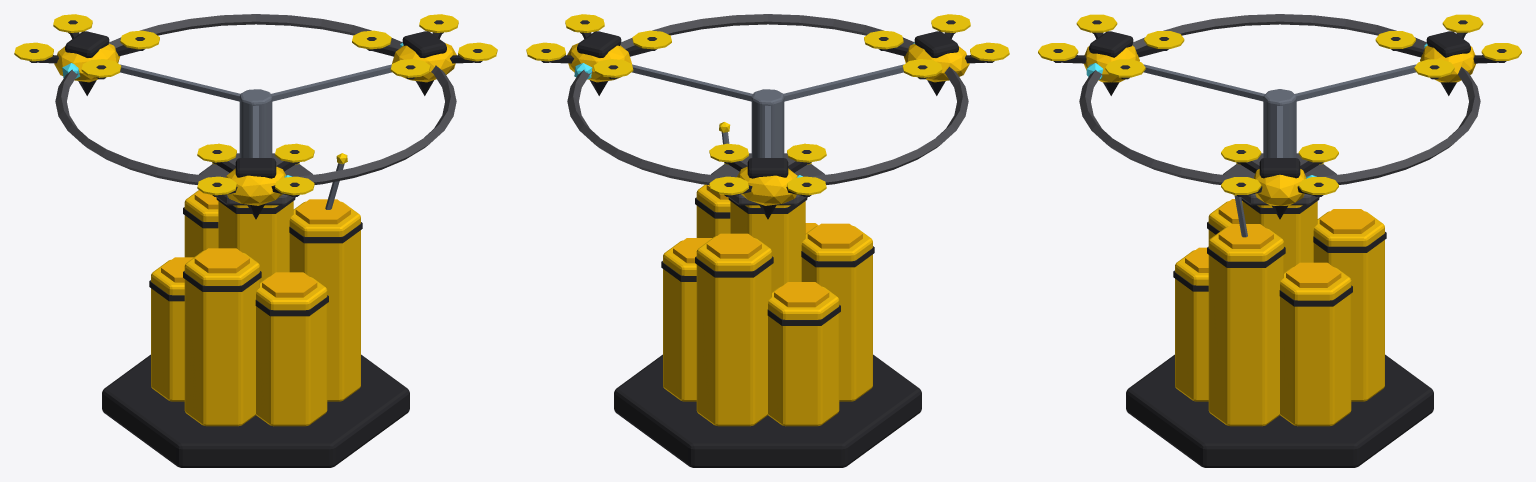
File: torreta_colmena.glb
3 renders of one model, left to right at view 1: azimuth 30°, elevation 25°; view 2: azimuth 150°, elevation 25°; view 3: azimuth 270°, elevation 25°, orthographic.
Parts seen in each view (by area): view 1: Base, Pivot; view 2: Base, Pivot; view 3: Base, Pivot.
Boxes of the visible parts, x1,y1,x2,y2 form: Base: (102,153,409,467); Pivot: (14,14,497,219); Base: (614,122,921,467); Pivot: (526,14,1009,219); Base: (1126,153,1433,467); Pivot: (1038,14,1521,219).
Size of the model in its own units: 4.24 by 3.43 by 4.53.
1 material, 1 textured.
